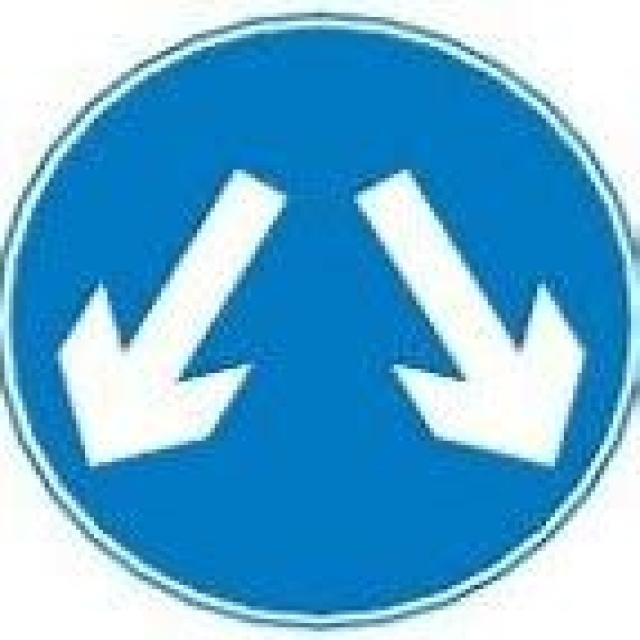pass either side: (17, 19, 622, 614)
